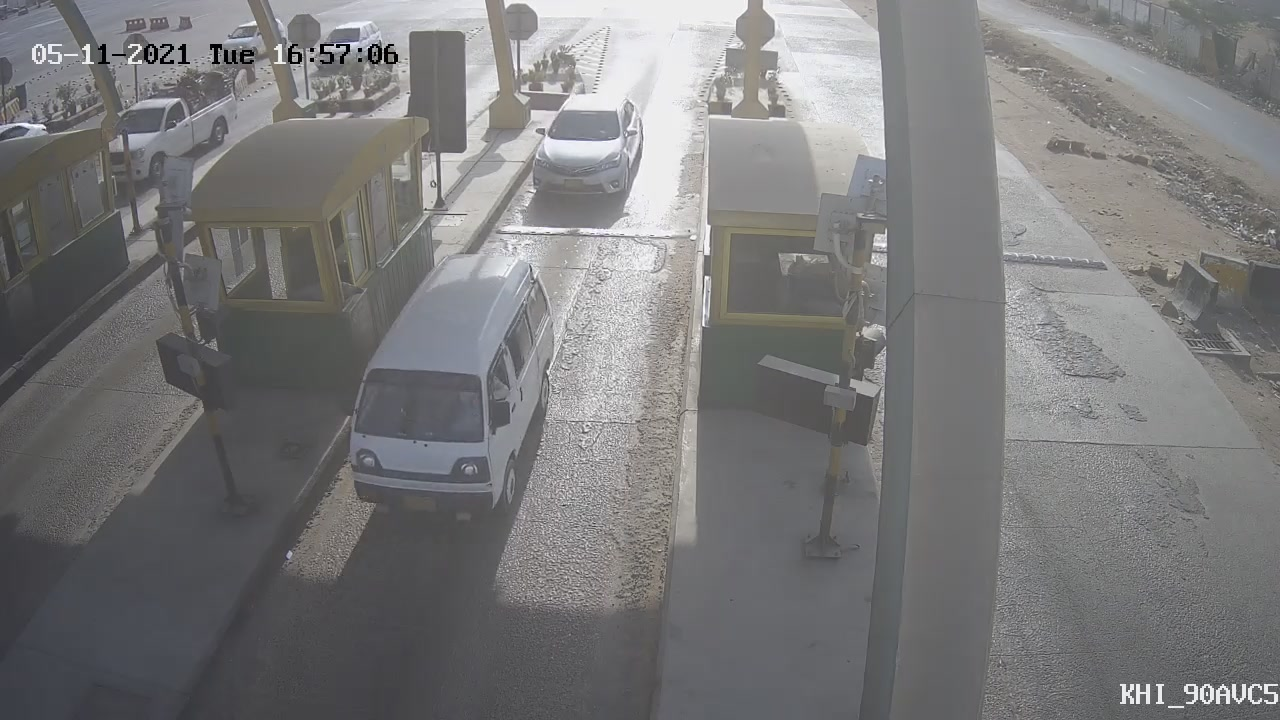F1: (313, 229, 579, 549), (517, 73, 663, 224)
